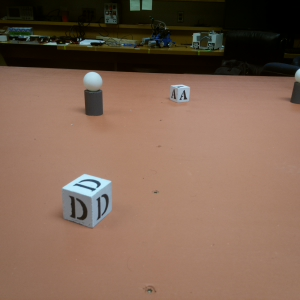blockA: (170, 84, 190, 102)
blockD: (62, 174, 113, 227)
obstacle: (84, 71, 105, 116)
